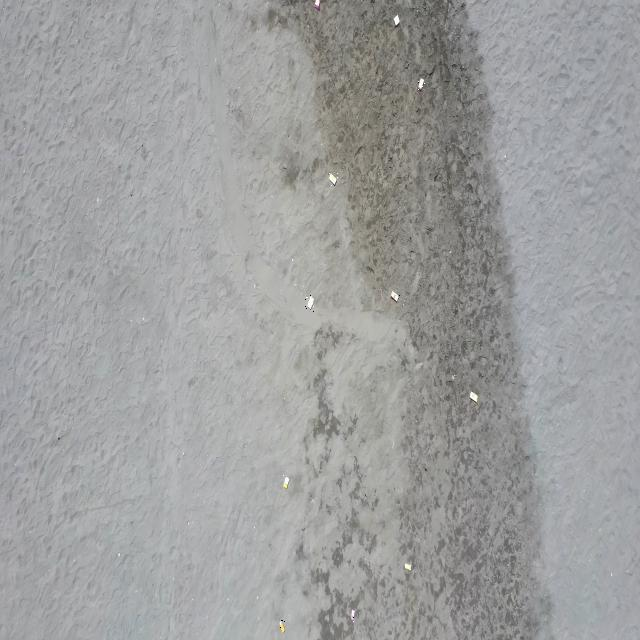Garbage: (304, 295, 313, 308), (468, 391, 477, 402), (328, 172, 335, 184), (281, 476, 288, 488), (417, 77, 424, 89), (390, 290, 397, 300), (350, 608, 355, 620), (404, 563, 411, 571), (313, 0, 319, 9), (279, 619, 283, 632), (395, 15, 399, 26)
